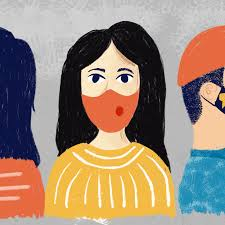masked: (59, 23, 163, 137)
